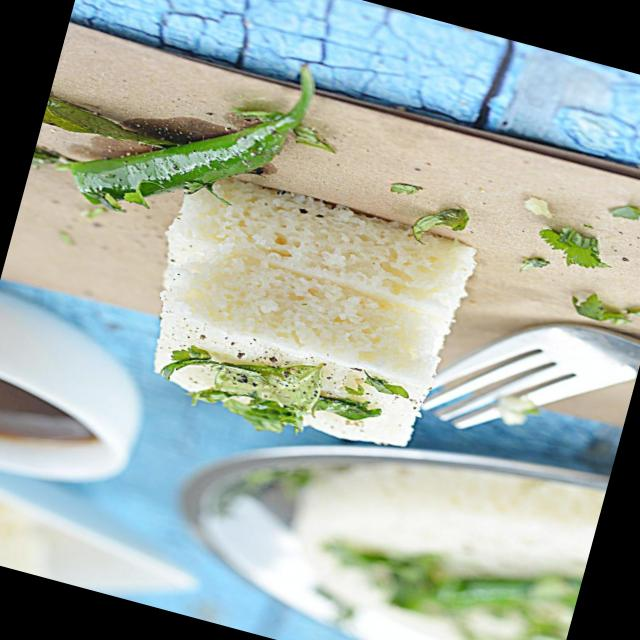dhokla: (128, 160, 485, 472)
